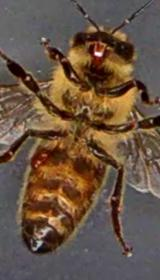varroa_mite: (28, 134, 54, 170)
